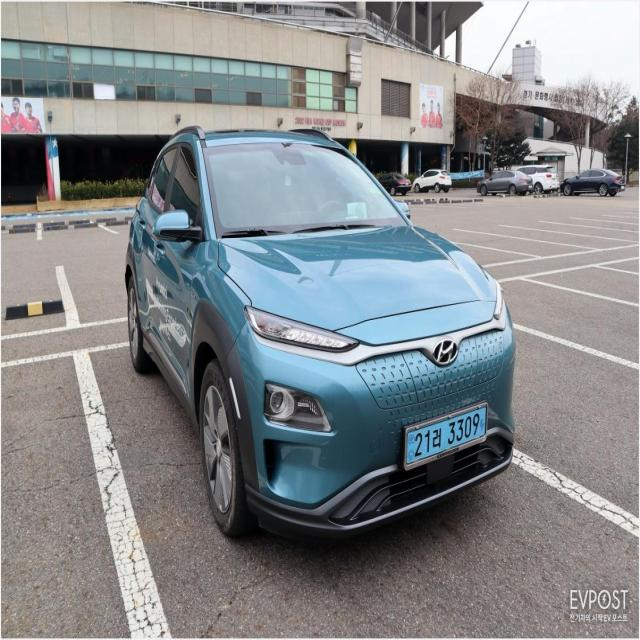EV_plate: (410, 401, 489, 478)
car: (121, 123, 516, 550)
